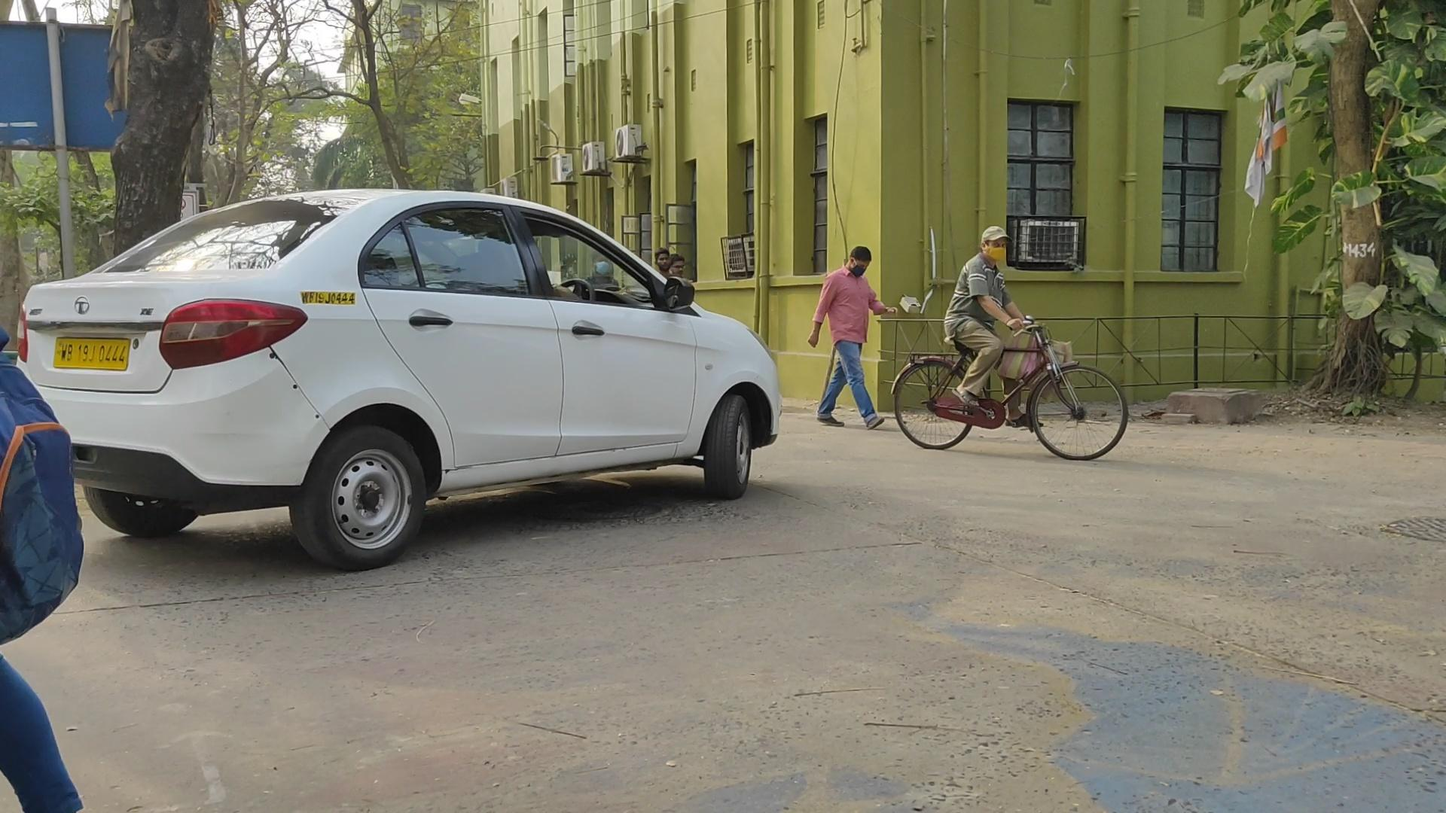bike: (892, 227, 1128, 462)
car: (15, 190, 780, 572)
